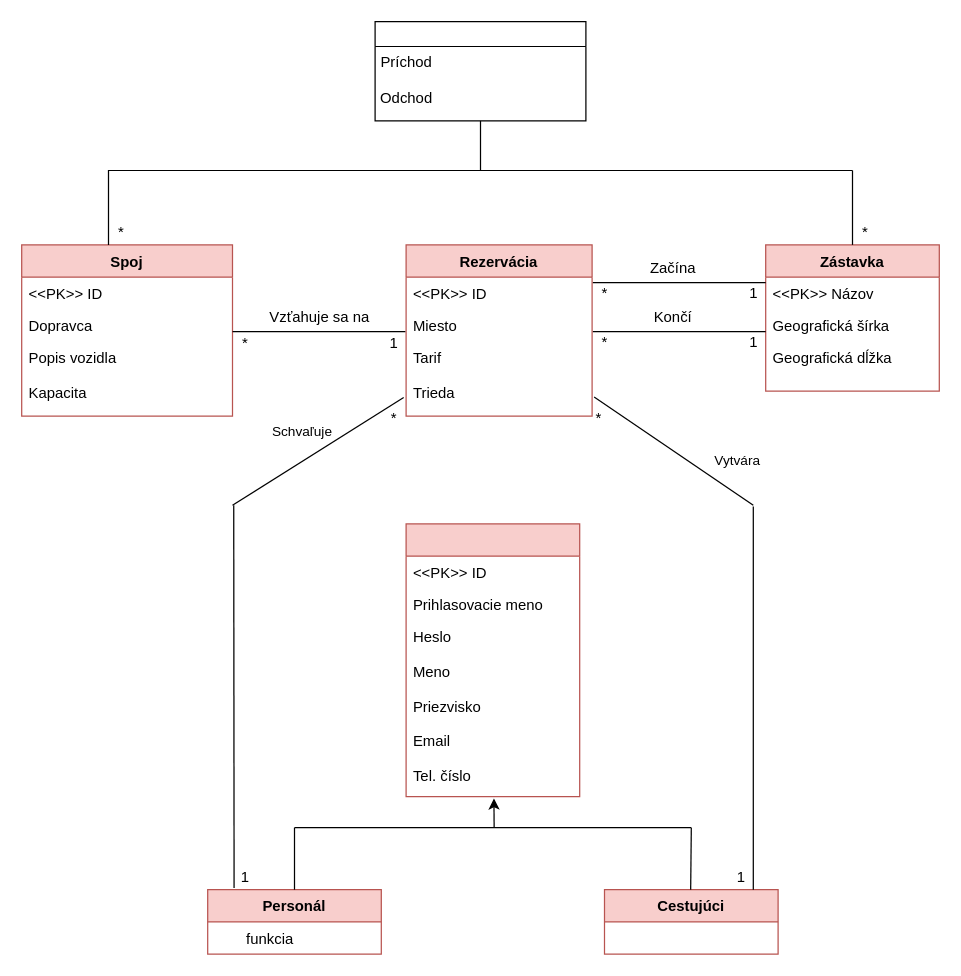
Some shapes in this 961 by 976 pixel diagram are drawn without their labels. Each missing label, with the box of its shape:
prechádza cez: (374, 20, 586, 121)
Užívateľ: (405, 523, 580, 797)
